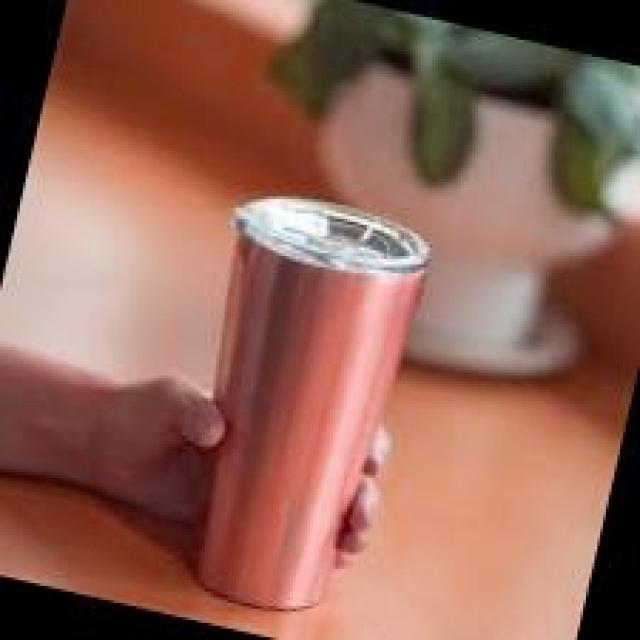bottle: (151, 179, 435, 629)
